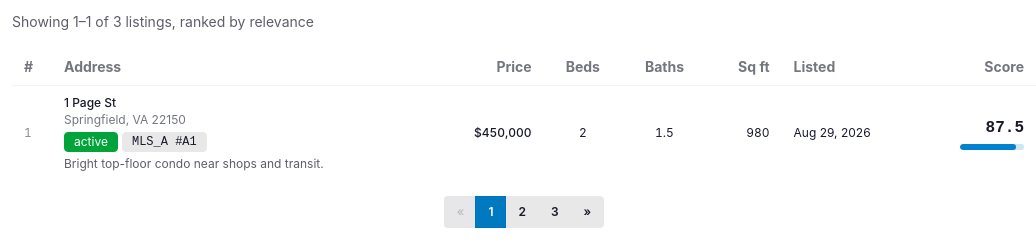
Test: <ResultsPanel /> › requests the next page of the applied search when paginating
The image size is (1036, 245).
Click the button named "Next page" at x=588, y=212, box [571,196,605,228]
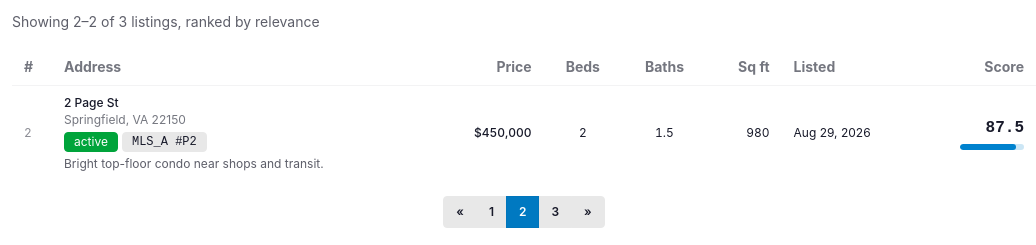
Now the text "2 Page St" is shown, box [64,95,119,110]
